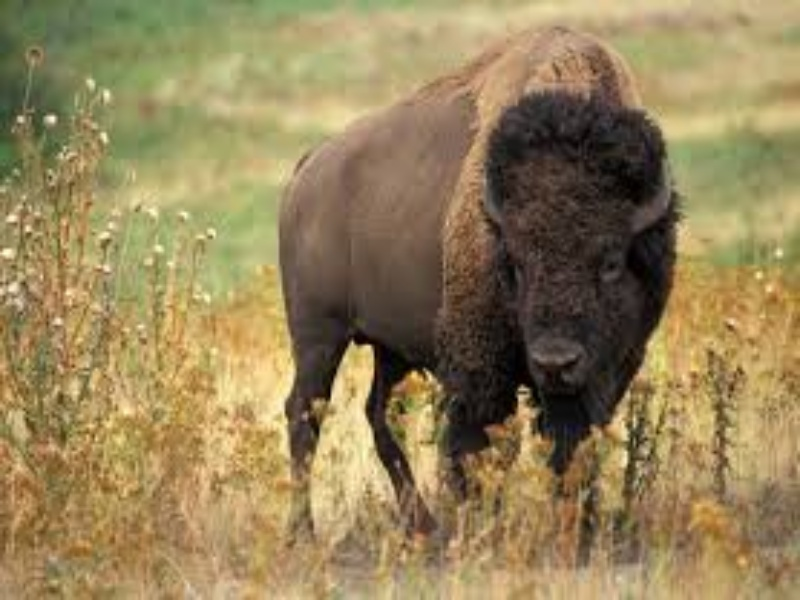buffalo: (269, 30, 673, 516)
